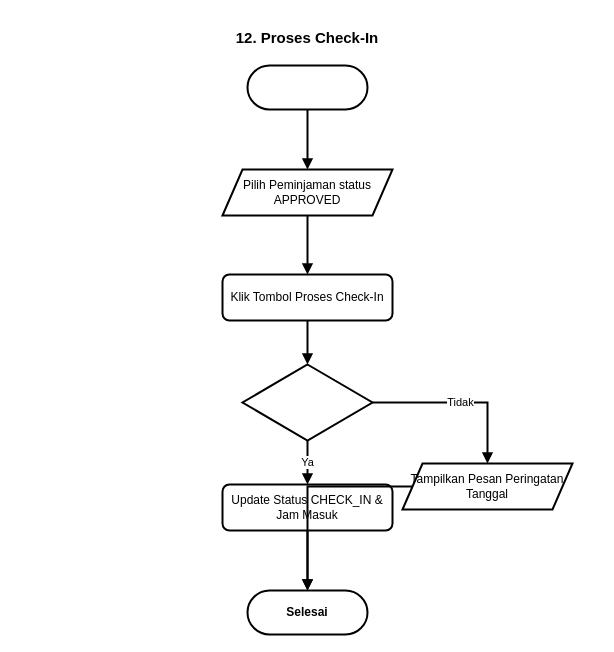
Some shapes in this 614 by 652 pixel diagram are drawn without their labels. Each missing label, with the box of its shape:
Mulai: (246, 64, 368, 110)
Sudah Hari H?: (241, 363, 373, 441)
